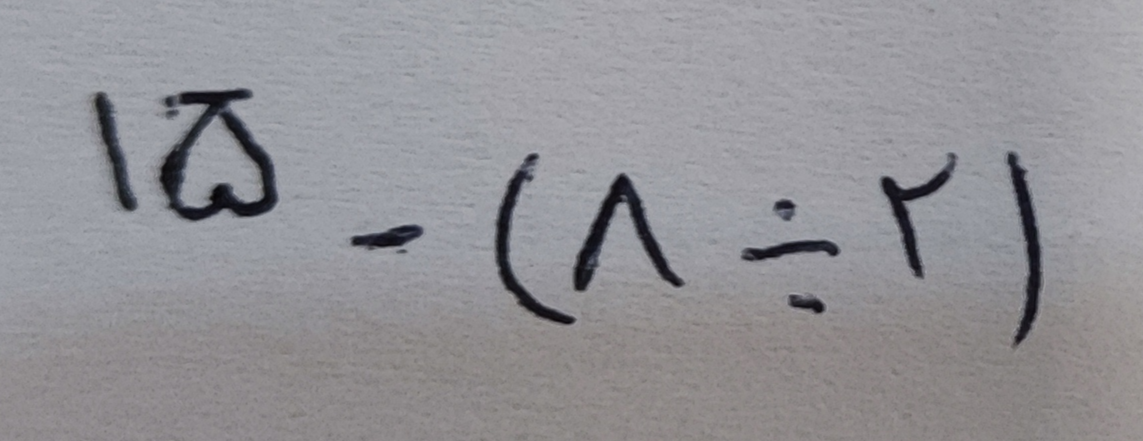character: (990, 140, 1093, 365), (152, 79, 286, 231), (576, 154, 694, 311), (865, 134, 971, 308), (724, 178, 847, 326), (487, 149, 575, 333), (72, 67, 142, 224), (339, 212, 439, 253)
